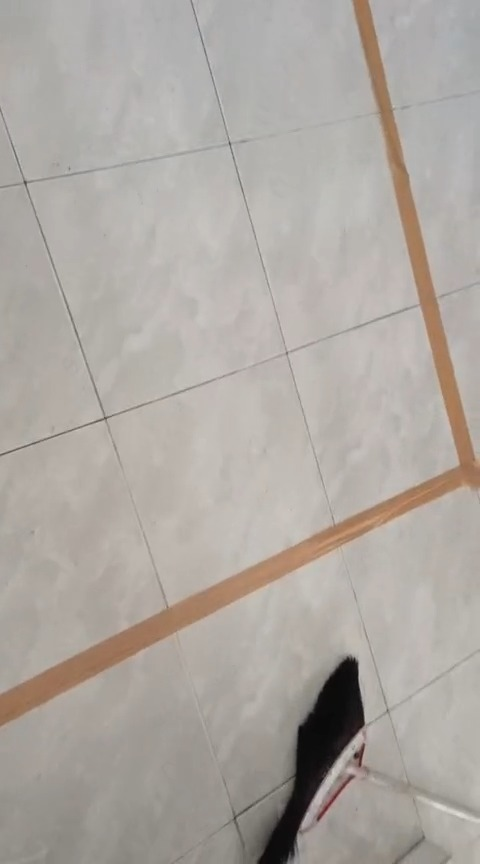floor marking: (0, 0, 479, 727)
